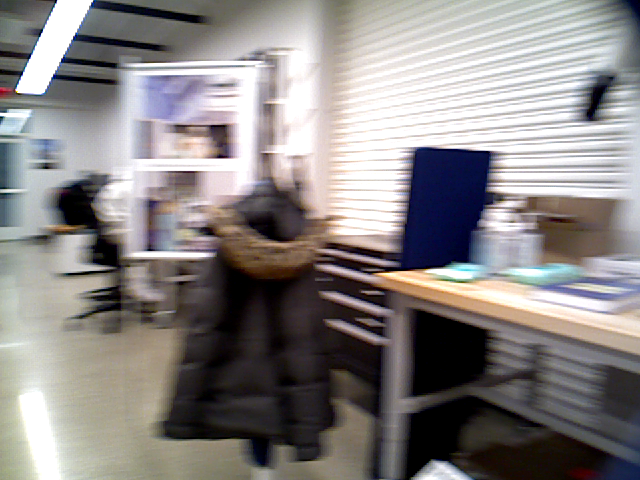painting3: (29, 135, 64, 171)
